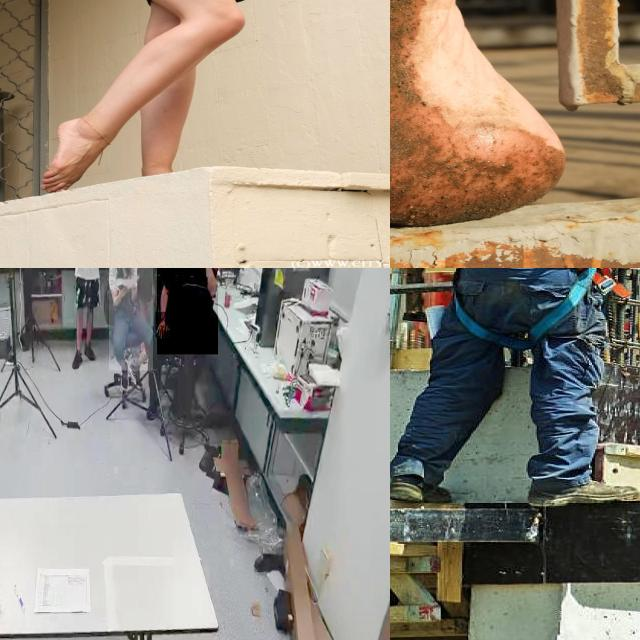Barefoots: (390, 0, 566, 237), (42, 118, 92, 194)
Harness: (450, 268, 625, 363)
hand_noglove: (156, 312, 168, 338)
person: (157, 268, 218, 355), (108, 268, 153, 371), (72, 268, 105, 363)
shoes: (127, 355, 145, 391), (118, 356, 130, 394), (70, 345, 84, 373), (84, 341, 95, 366)
